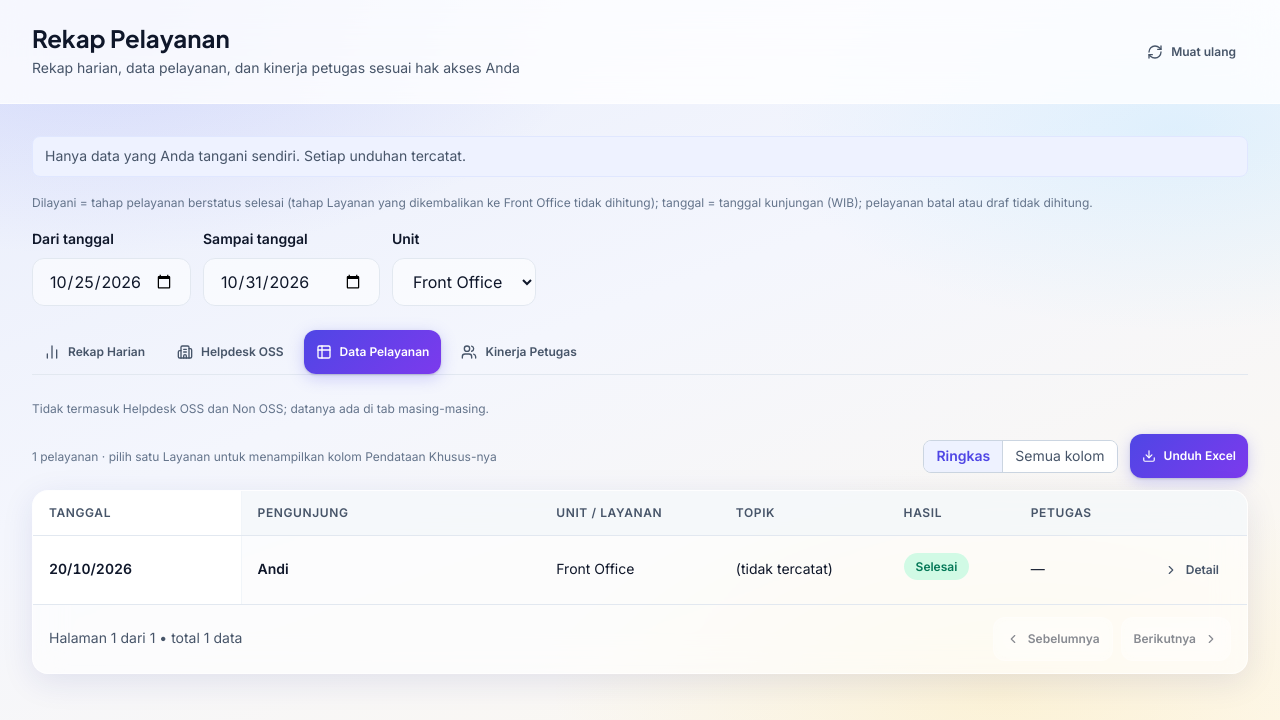
Test: /admin/rekap (terpadu) › ?bagian=data&unit=fo (redirect Rekap FO) membuka Data Pelayanan dengan filter unit
Check: the text "Andi" is shown, box [241,536,540,604]
Check: the button "Unduh Excel" is shown, box [1130,434,1248,478]
Click the button "Semua kolom".
click(1059, 456)  # box [1002,441,1116,472]
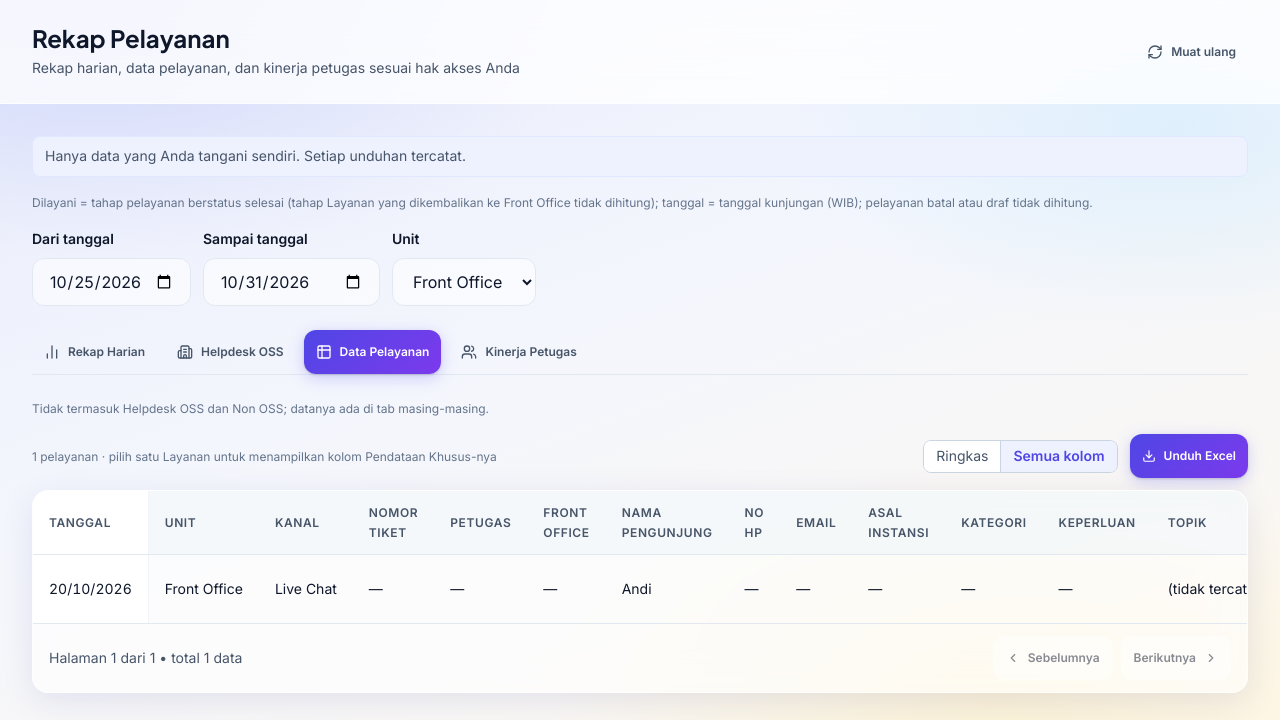
Check: the dropdown labelled "Unit" shows "Front Office", box [392,258,536,306]
Check: the column heading "Kanal" is shown, box [259,491,353,554]
Check: the text "Live Chat" is shown, box [259,555,353,623]
